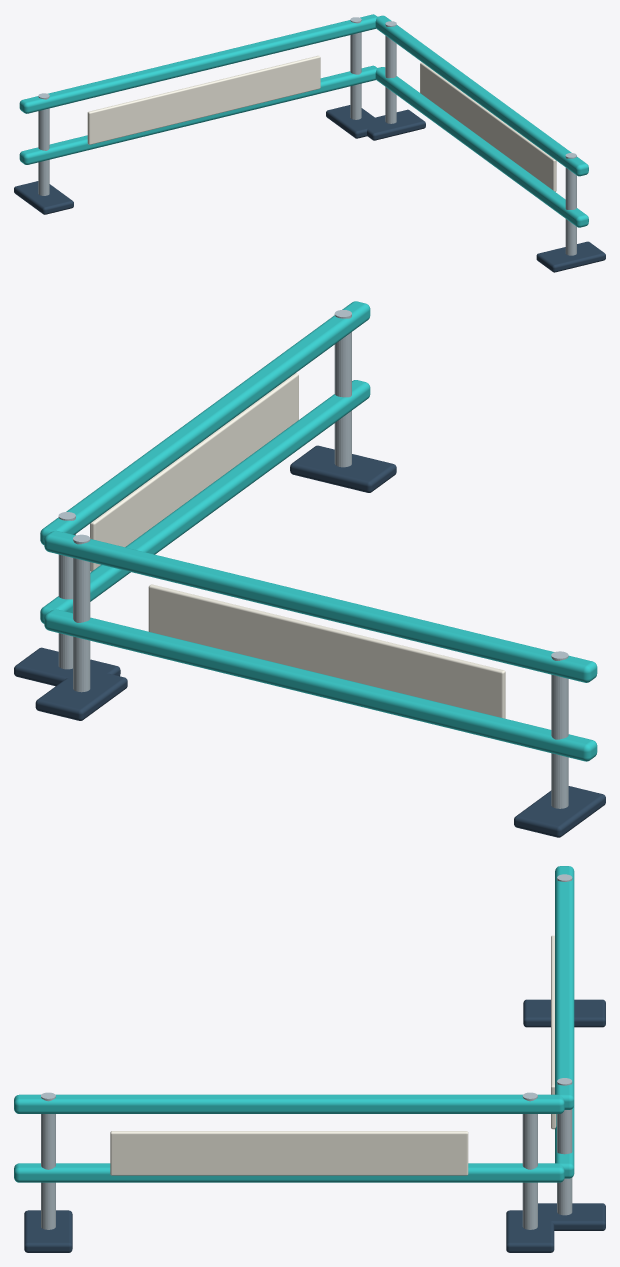
File: party-obstacle-course-party-obstacle-course-barrier-co-9e4d01c1__28948.glb
The picture shows the model from 3 angles, top to bottom: view 1: azimuth 30°, elevation 25°; view 2: azimuth 150°, elevation 25°; view 3: azimuth 270°, elevation 25°; orthographic projection. The views are drawn at different scales.
Parts seen in each view (by area): view 1: party-obstacle-course-barrier-corner; view 2: party-obstacle-course-barrier-corner; view 3: party-obstacle-course-barrier-corner.
Part boxes in pixels (bbox=[...]): party-obstacle-course-barrier-corner: bbox=[14, 14, 605, 272]; party-obstacle-course-barrier-corner: bbox=[14, 301, 605, 837]; party-obstacle-course-barrier-corner: bbox=[14, 866, 605, 1252].
Size of the model in its own units: 4.3 by 1.13 by 4.3.
